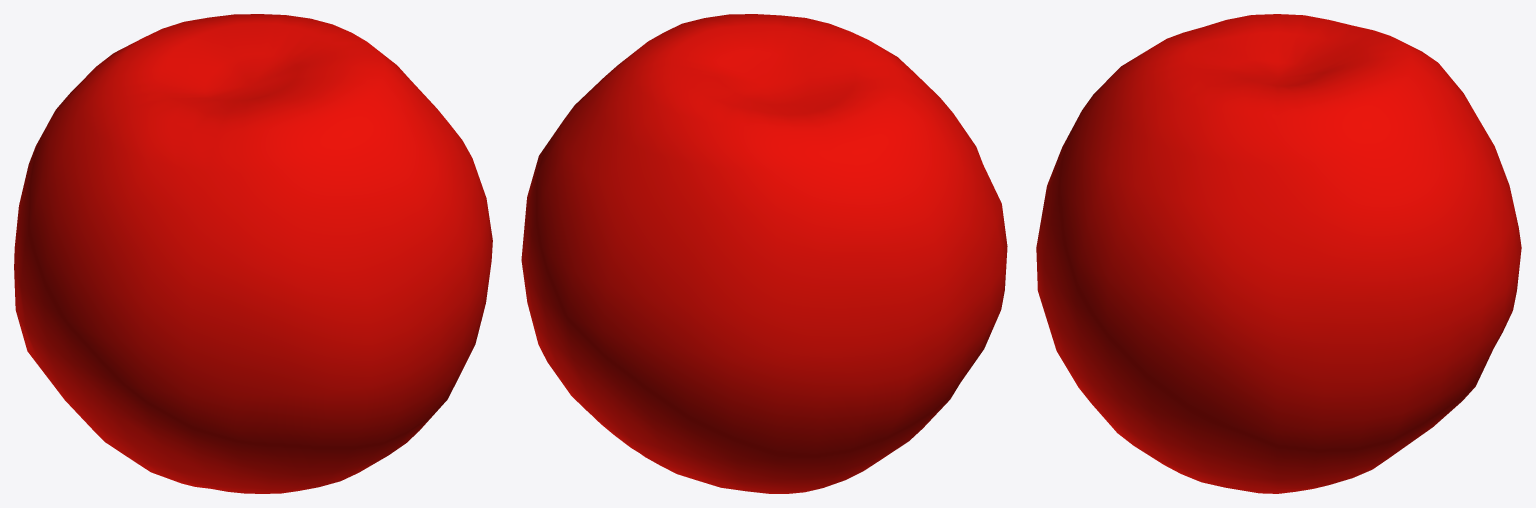
Rendered from tomato.fbx.
3 views of the same model, side by side, from view 1: azimuth 30°, elevation 25°; view 2: azimuth 150°, elevation 25°; view 3: azimuth 270°, elevation 25° (orthographic).
Visible parts, largest first — view 1: Sphere; view 2: Sphere; view 3: Sphere.
Part boxes in pixels (bbox=[...]): Sphere: bbox=[14, 14, 492, 493]; Sphere: bbox=[521, 14, 1007, 493]; Sphere: bbox=[1036, 14, 1521, 493].
Bounding box in the file's own units: 201 × 189 × 200.
